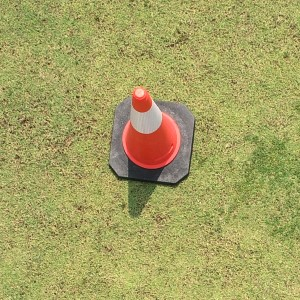traffic cone: (108, 87, 194, 183)
